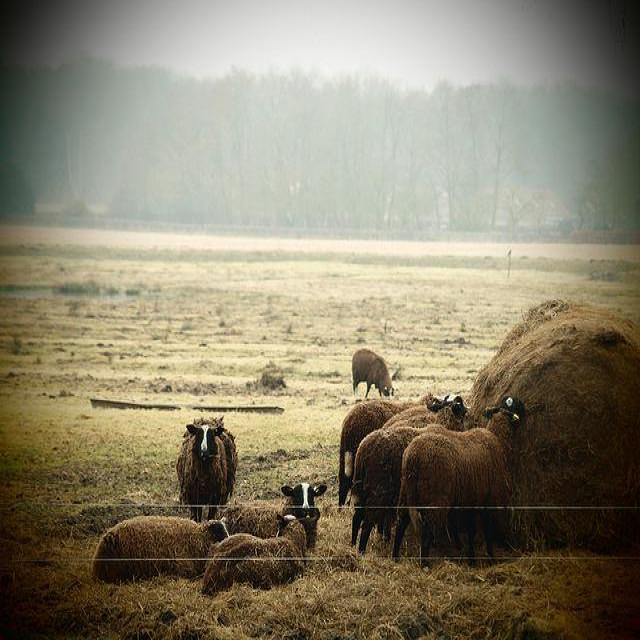Sheep: (393, 395, 530, 568), (352, 423, 452, 553), (339, 393, 436, 512), (203, 515, 316, 600), (93, 515, 230, 585), (176, 417, 239, 524), (282, 481, 327, 547), (353, 348, 394, 400)
